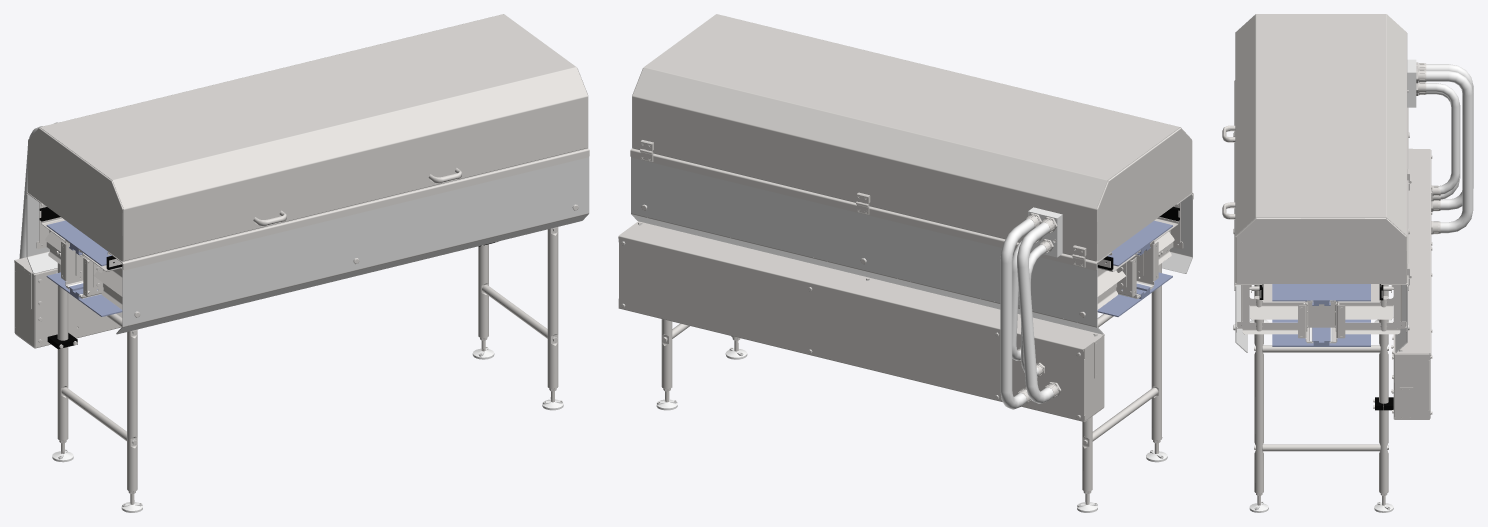
3 views of the same model, side by side, from view 1: azimuth 30°, elevation 25°; view 2: azimuth 150°, elevation 25°; view 3: azimuth 270°, elevation 25° (orthographic). The views are drawn at different scales.
Visible parts, largest first — view 1: base, glass; view 2: base, glass; view 3: base, glass.
Part boxes in pixels (x1,y1,x2,y2): base: (14, 14, 589, 512); glass: (26, 157, 589, 334); base: (618, 14, 1193, 512); glass: (631, 157, 1192, 334); base: (1222, 14, 1473, 512); glass: (1235, 285, 1407, 352).
Size of the model in its own units: 2 by 1.37 by 1.04.
Materials: 1 (1 with a texture image).
